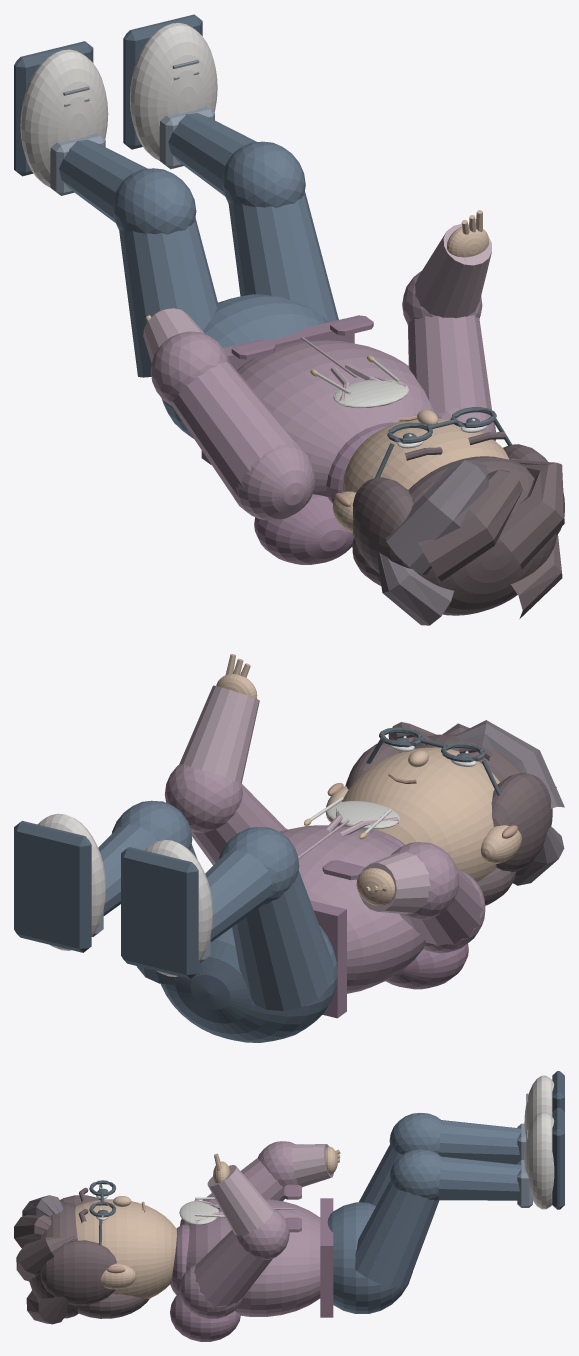
Rendered from designer_meeting_0.glb.
3 views of the same model, one above another, from view 1: azimuth 30°, elevation 25°; view 2: azimuth 150°, elevation 25°; view 3: azimuth 270°, elevation 25° (orthographic). The views are drawn at different scales.
Visible parts, largest first — view 1: 0000__hoodie_main_torso, 0065__jeans_thigh, 0046__jeans_thigh, 0057__sleeve_upper, 0050__sneaker, 0069__sneaker, 0076__sleeve_upper, 0022__hair_crown, 0017__face_head, 0026__hair_lock_0, 0027__hair_lock_1, 0014__pants_pelvis (+22 smaller); view 2: 0017__face_head, 0000__hoodie_main_torso, 0046__jeans_thigh, 0070__rubber_sole, 0051__rubber_sole, 0014__pants_pelvis, 0078__sleeve_forearm, 0024__temple_side, 0048__jeans_shin, 0077__elbow_fold, 0047__knee_fold, 0057__sleeve_upper (+22 smaller); view 3: 0000__hoodie_main_torso, 0017__face_head, 0065__jeans_thigh, 0014__pants_pelvis, 0025__temple_side, 0076__sleeve_upper, 0067__jeans_shin, 0048__jeans_shin, 0078__sleeve_forearm, 0069__sneaker, 0066__knee_fold, 0047__knee_fold (+21 smaller).
Part boxes in pixels (left/top/right/bottom): 0000__hoodie_main_torso: left=236, top=340, right=433, bottom=496; 0065__jeans_thigh: left=228, top=192, right=338, bottom=322; 0046__jeans_thigh: left=119, top=218, right=218, bottom=377; 0057__sleeve_upper: left=172, top=361, right=296, bottom=497; 0050__sneaker: left=20, top=49, right=108, bottom=187; 0069__sneaker: left=130, top=23, right=217, bottom=160; 0076__sleeve_upper: left=408, top=315, right=491, bottom=413; 0022__hair_crown: left=408, top=456, right=556, bottom=615; 0017__face_head: left=342, top=418, right=509, bottom=492; 0026__hair_lock_0: left=385, top=460, right=489, bottom=574; 0027__hair_lock_1: left=417, top=469, right=522, bottom=581; 0014__pants_pelvis: left=161, top=294, right=328, bottom=438; 0017__face_head: left=338, top=747, right=499, bottom=882; 0000__hoodie_main_torso: left=280, top=825, right=425, bottom=993; 0046__jeans_thigh: left=232, top=870, right=334, bottom=1010; 0070__rubber_sole: left=14, top=820, right=91, bottom=952; 0051__rubber_sole: left=121, top=847, right=198, bottom=978; 0014__pants_pelvis: left=161, top=925, right=337, bottom=1042; 0078__sleeve_forearm: left=179, top=685, right=259, bottom=783; 0024__temple_side: left=491, top=773, right=552, bottom=871; 0048__jeans_shin: left=205, top=850, right=272, bottom=941; 0077__elbow_fold: left=164, top=764, right=242, bottom=832; 0047__knee_fold: left=218, top=827, right=299, bottom=904; 0057__sleeve_upper: left=400, top=867, right=483, bottom=945; 0000__hoodie_main_torso: left=186, top=1199, right=320, bottom=1316; 0017__face_head: left=75, top=1199, right=176, bottom=1298; 0065__jeans_thigh: left=355, top=1181, right=439, bottom=1287; 0014__pants_pelvis: left=327, top=1202, right=412, bottom=1313; 0025__temple_side: left=40, top=1240, right=116, bottom=1305; 0076__sleeve_upper: left=194, top=1230, right=272, bottom=1309; 0067__jeans_shin: left=438, top=1156, right=521, bottom=1200; 0048__jeans_shin: left=438, top=1120, right=521, bottom=1164; 0078__sleeve_forearm: left=207, top=1165, right=273, bottom=1236; 0069__sneaker: left=524, top=1112, right=554, bottom=1209; 0066__knee_fold: left=389, top=1149, right=441, bottom=1200; 0047__knee_fold: left=389, top=1113, right=441, bottom=1154.
Size of the model in its own units: 0.81 by 0.8228 by 1.85.
